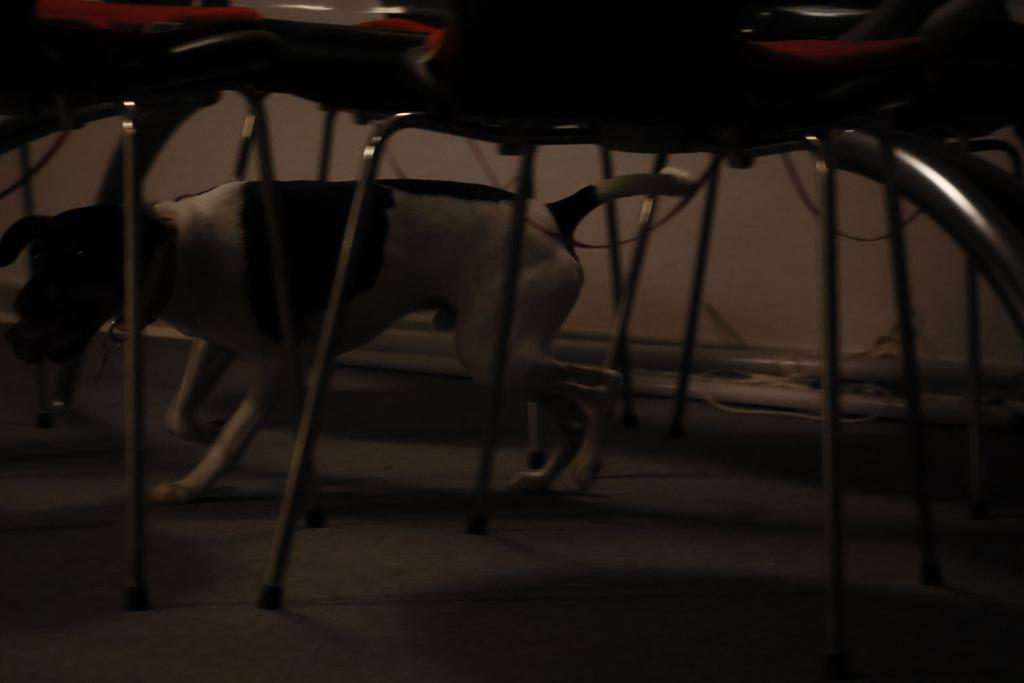Dog: (0, 160, 709, 510)
